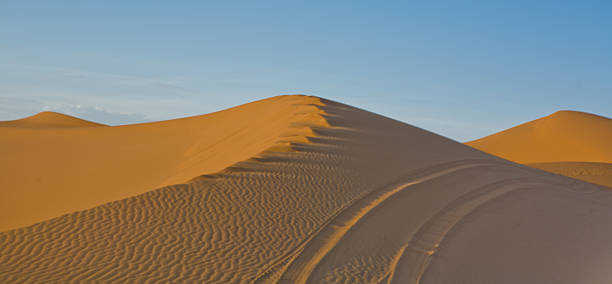vehicle_track: (255, 159, 514, 282), (386, 176, 571, 282)
